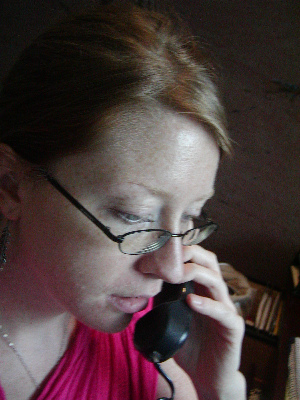person: (1, 1, 248, 400)
